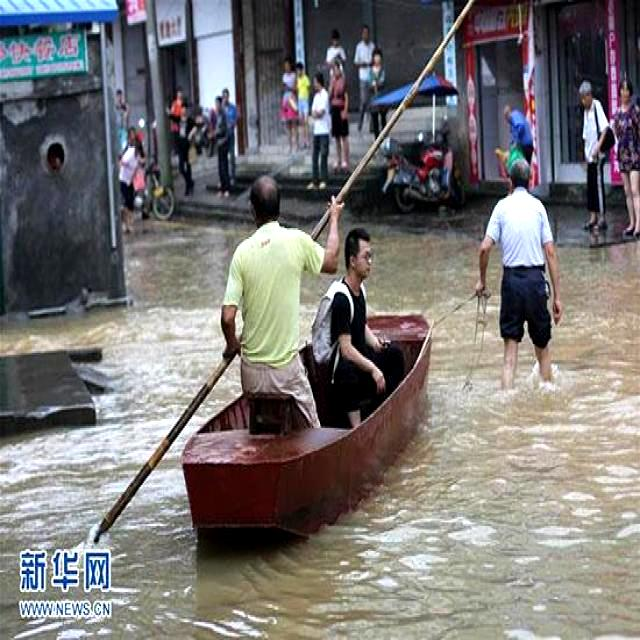civilian: (223, 166, 360, 441), (488, 139, 575, 397), (318, 214, 394, 432), (571, 72, 612, 241), (612, 72, 640, 247), (498, 97, 546, 199), (322, 49, 359, 176), (306, 76, 336, 198), (171, 103, 206, 201), (114, 137, 146, 230), (206, 95, 238, 187), (280, 57, 308, 159), (352, 23, 379, 128), (367, 46, 394, 149), (298, 61, 318, 135), (106, 81, 128, 143), (222, 85, 244, 144), (321, 25, 346, 70), (161, 87, 188, 122)
